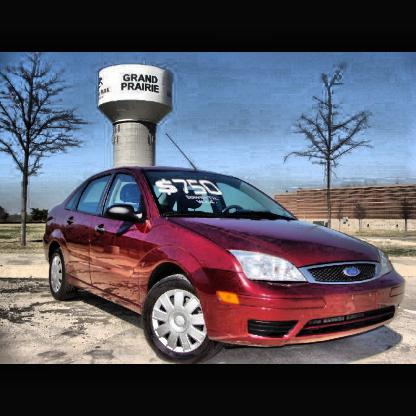Ford Focus Sedan 2007: (45, 168, 408, 364)
